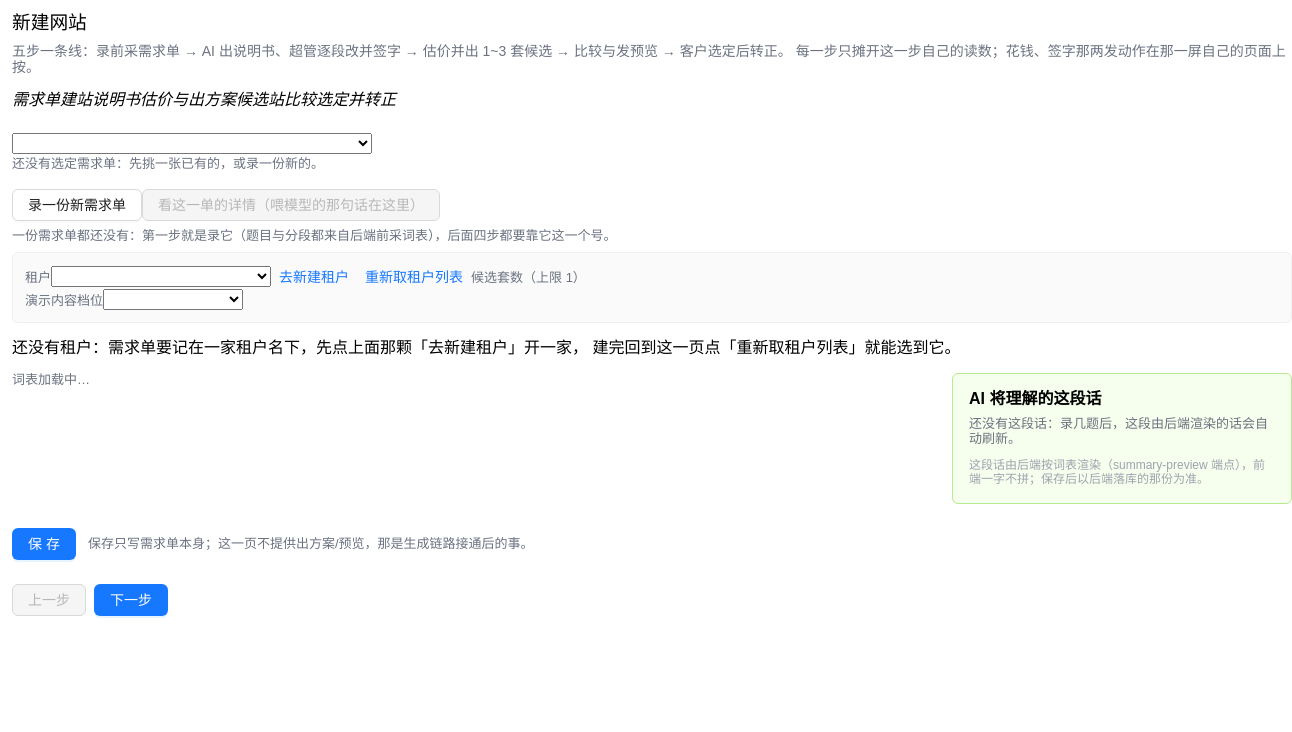
新建网站向导 › 还没选单就点下一步：拦下并给一句人话，步号不动
Click the button "下一步" at (131, 600), box [94,584,168,616]
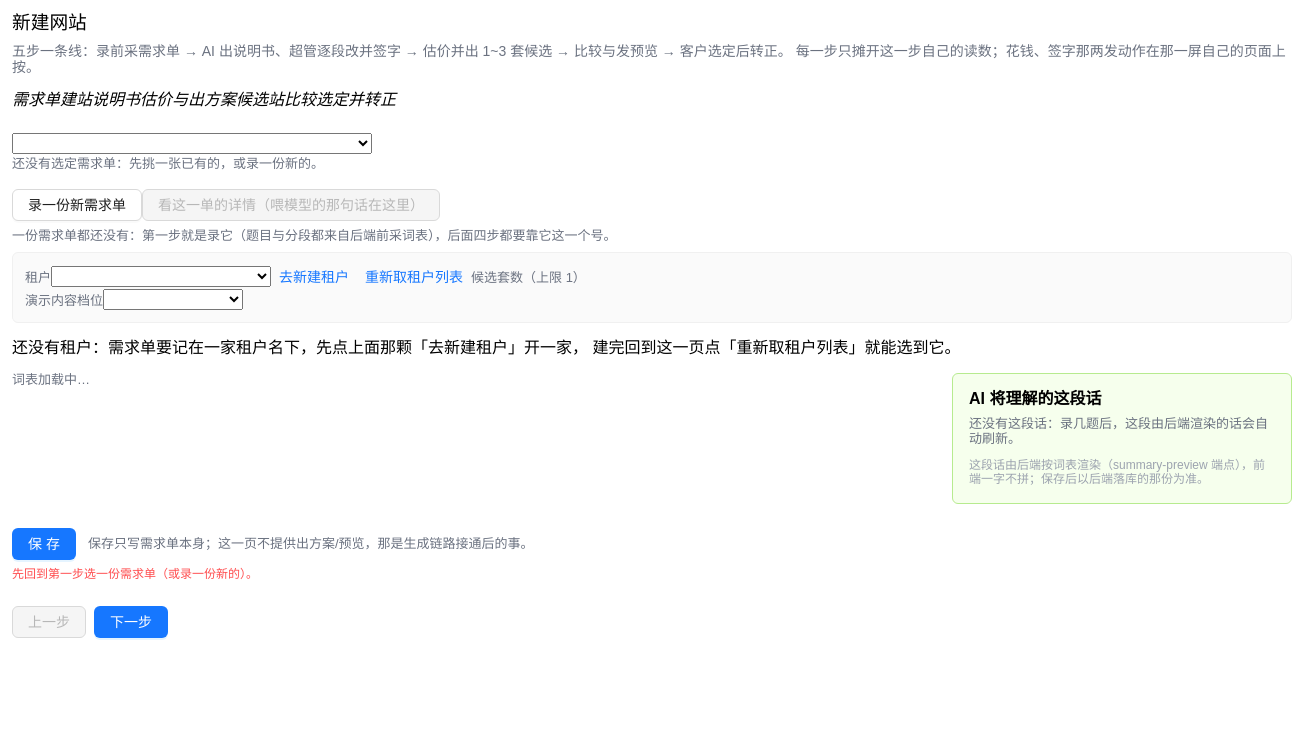
Expected: the text "先回到第一步选一份需求单" is shown, [12,567,258,581]
